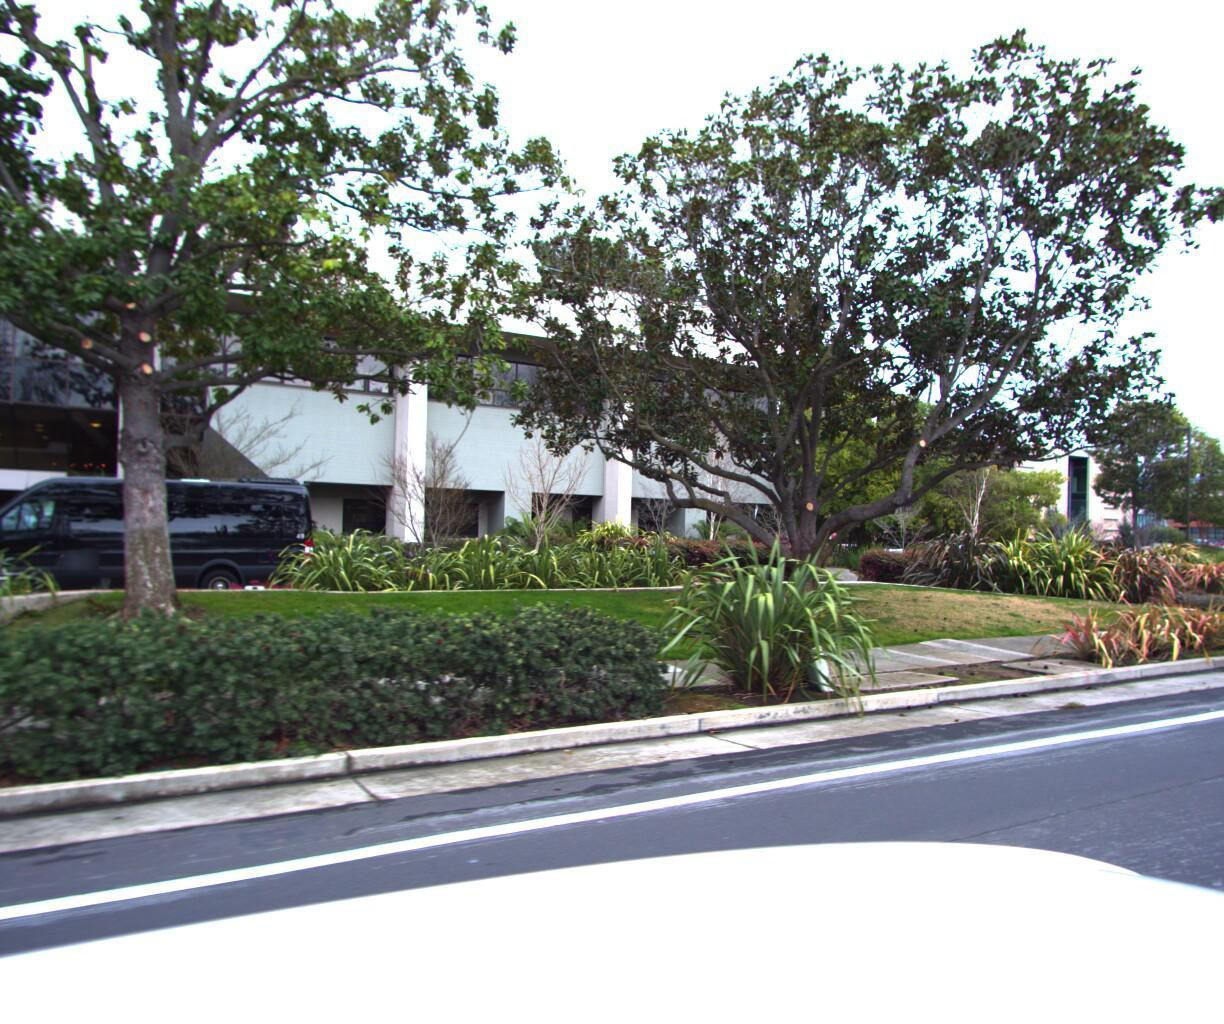car: (0, 458, 329, 616)
